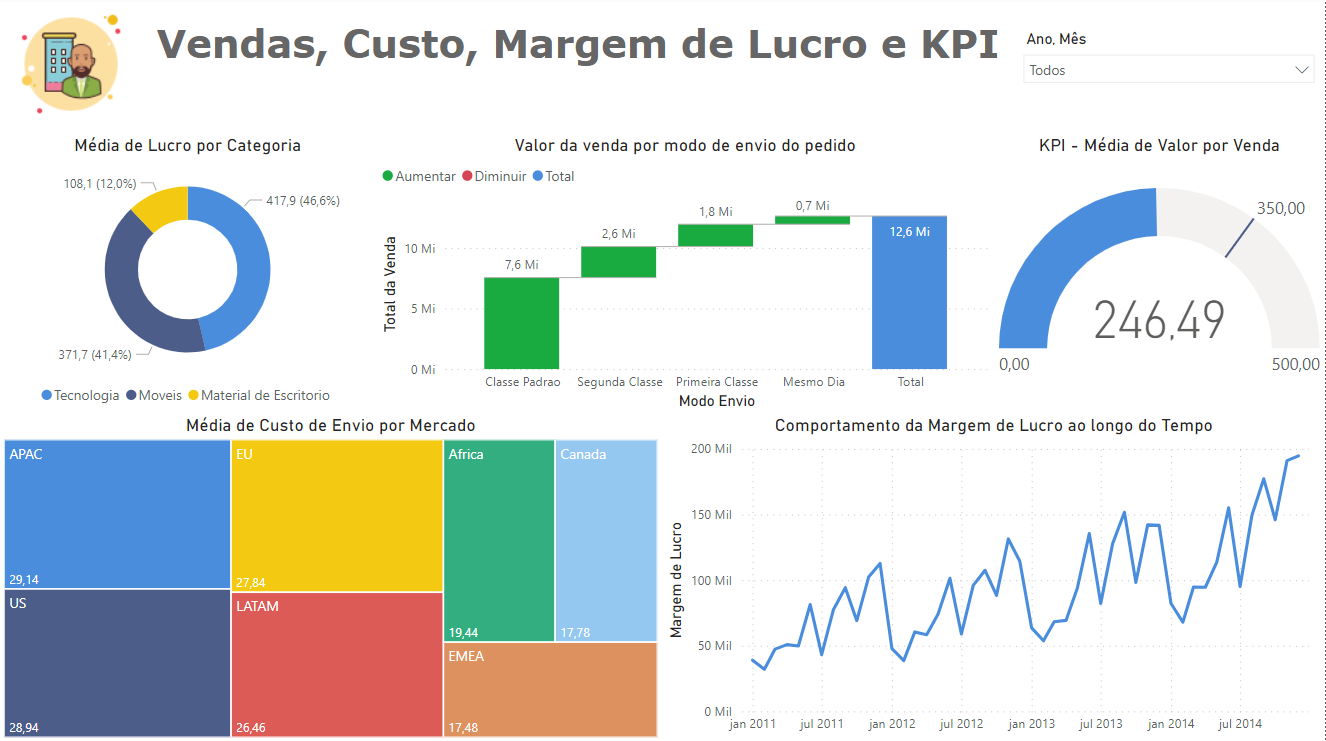

What the dashboard file says about the page in this screenshot:
{"tool":"powerbi","page":{"name":"Dashboard","canvas":[1280,720],"ordinal":0},"visuals":[{"type":"waterfallChart","title":"Valor da venda por modo de envio do pedido","fields":{"Category":["Pedidos.Modo Envio"],"Y":["Sum(Vendas.Valor Venda)"]},"box":[364.2,133.9,595.8,270.2],"z":0},{"type":"treemap","title":"Média de Custo de Envio por Mercado","fields":{"Group":["Clientes.Mercado"],"Values":["Avg(Vendas.Custo Envio)"]},"box":[0,404,640.4,316],"z":1000},{"type":"gauge","title":"KPI - Média de Valor por Venda","fields":{"Y":["Avg(Vendas.Valor Venda)"]},"box":[960,133.9,319.6,270.2],"z":2000},{"type":"slicer","fields":{"Values":["Pedidos.Data Pedido.Variation.Hierarquia de datas.Ano","Pedidos.Data Pedido.Variation.Hierarquia de datas.Mês"]},"box":[978.1,27.7,301.5,86.8],"z":3000},{"type":"donutChart","fields":{"Category":["Produtos.Categoria"],"Y":["Avg(Vendas.Lucro)"]},"box":[0,133.9,364.2,270.2],"z":4000},{"type":"lineChart","title":"Comportamento da Margem de Lucro ao longo do Tempo","fields":{"Category":["Pedidos.Data Pedido.Variation.Hierarquia de datas.Ano","Pedidos.Data Pedido.Variation.Hierarquia de datas.Trimestre","Pedidos.Data Pedido.Variation.Hierarquia de datas.Mês","Pedidos.Data Pedido.Variation.Hierarquia de datas.Dia"],"Y":["Sum(Vendas.MargemLucro)"]},"box":[640.4,404,639.2,316],"z":5000},{"type":"textbox","box":[138.7,0,839.4,114.6],"z":6000},{"type":"image","box":[0,0,138.7,131.5],"z":7000}]}

Visuals, with their boxes in screenshot pixels (x1, y1, x2, y2), scaled from the page's 1280x720 canvas onto the 1326x741 screenshot:
"Valor da venda por modo de envio do pedido" waterfallChart: x1=377 y1=138 x2=994 y2=416
"Média de Custo de Envio por Mercado" treemap: x1=0 y1=416 x2=663 y2=740
"KPI - Média de Valor por Venda" gauge: x1=994 y1=138 x2=1325 y2=416
slicer - Pedidos.Data Pedido.Variation.Hierarquia de datas.Ano x Pedidos.Data Pedido.Variation.Hierarquia de datas.Mês: x1=1013 y1=29 x2=1325 y2=118
donutChart - Produtos.Categoria x Avg(Vendas.Lucro): x1=0 y1=138 x2=377 y2=416
"Comportamento da Margem de Lucro ao longo do Tempo" lineChart: x1=663 y1=416 x2=1325 y2=740
textbox: x1=144 y1=0 x2=1013 y2=118
image: x1=0 y1=0 x2=144 y2=135
